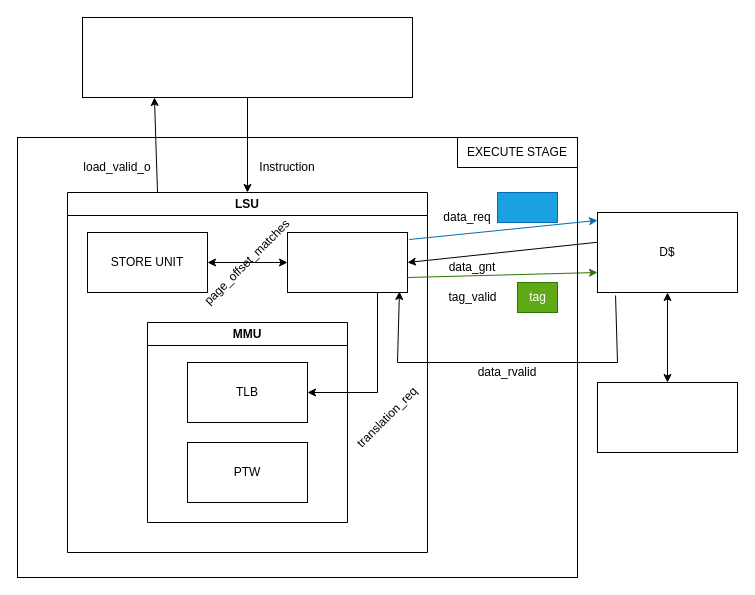
This 755x595 diagram has some shape labels left out. The centre of each missing label's shape, as x and y in pixels:
"index" goes at pixel 527 207.
"ISSUE STAGE" goes at pixel 247 57.
"LOAD UNIT" goes at pixel 347 262.
"MEM" goes at pixel 667 417.
